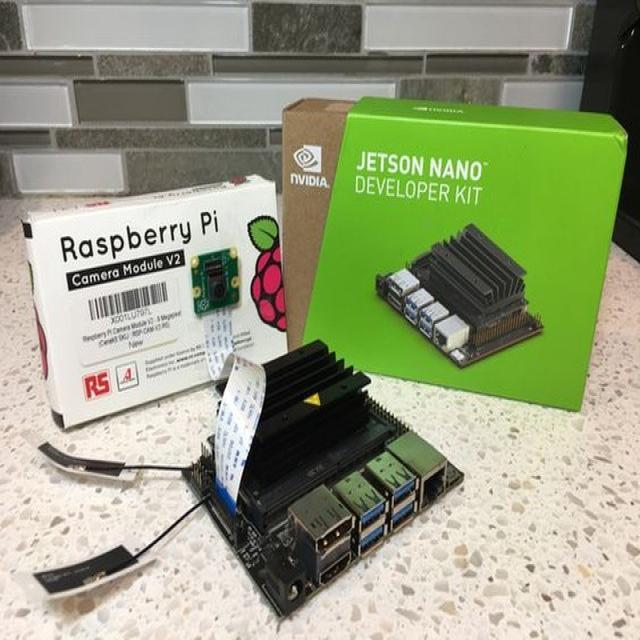Jetson Nano: (183, 339, 467, 620), (375, 225, 547, 368)
